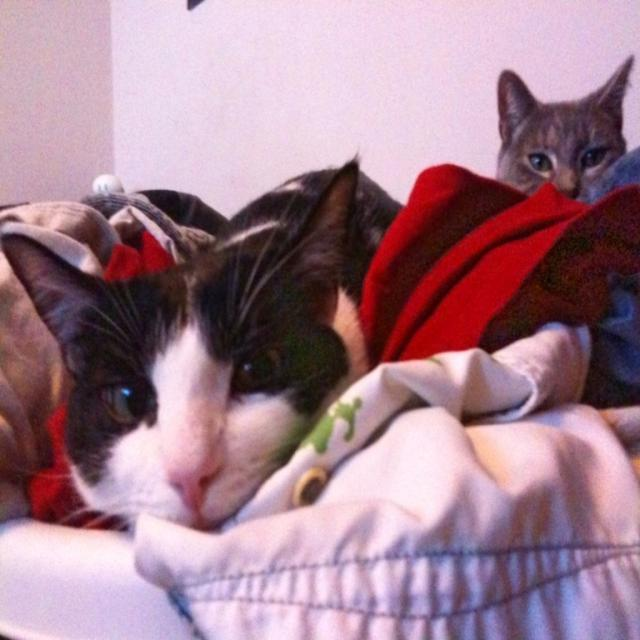Cat: (0, 152, 406, 534), (491, 48, 632, 200)
